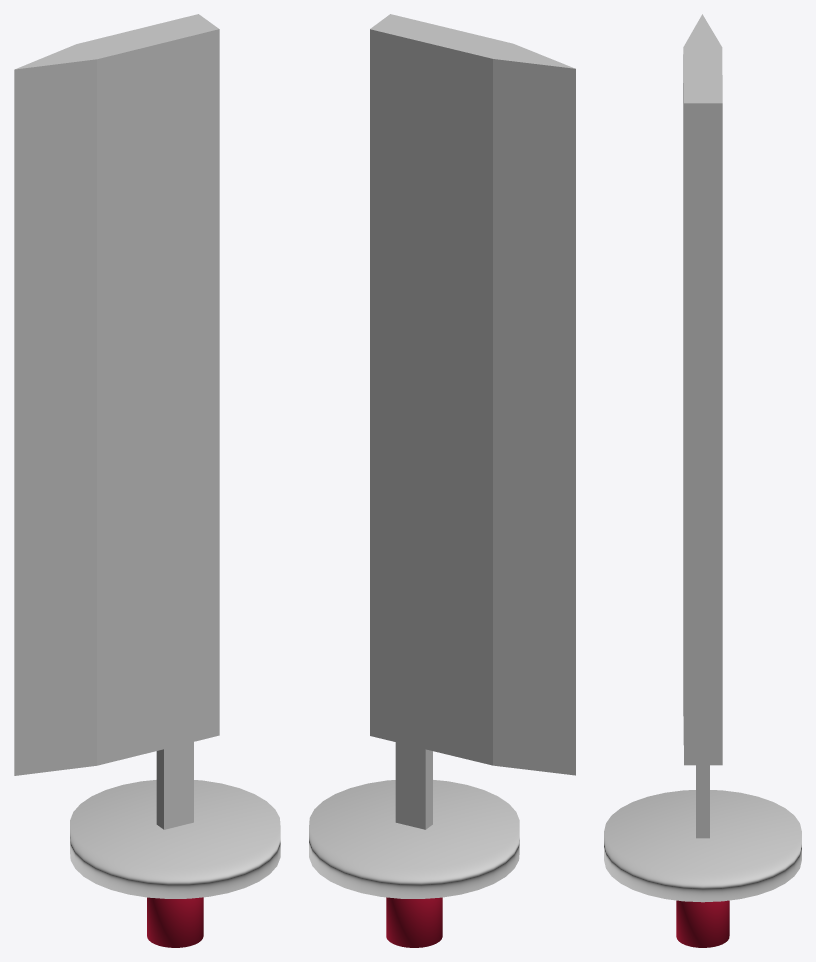
3 views of the same model, side by side, from view 1: azimuth 30°, elevation 25°; view 2: azimuth 150°, elevation 25°; view 3: azimuth 270°, elevation 25° (orthographic). The views are drawn at different scales.
Parts seen in each view (by area): view 1: blade_hachet, rguard_circle, grip_normal; view 2: blade_hachet, rguard_circle, grip_normal; view 3: blade_hachet, rguard_circle, grip_normal.
Part boxes in pixels (box(x1,y1,x2,y2)): blade_hachet: box(14, 14, 219, 829); rguard_circle: box(70, 780, 280, 898); grip_normal: box(147, 897, 203, 947); blade_hachet: box(370, 14, 575, 829); rguard_circle: box(309, 780, 519, 898); grip_normal: box(386, 897, 442, 947); blade_hachet: box(683, 14, 722, 838); rguard_circle: box(604, 790, 801, 902); grip_normal: box(676, 900, 729, 947).
Size of the model in its own units: 0.1918 by 0.6574 by 0.1388.
